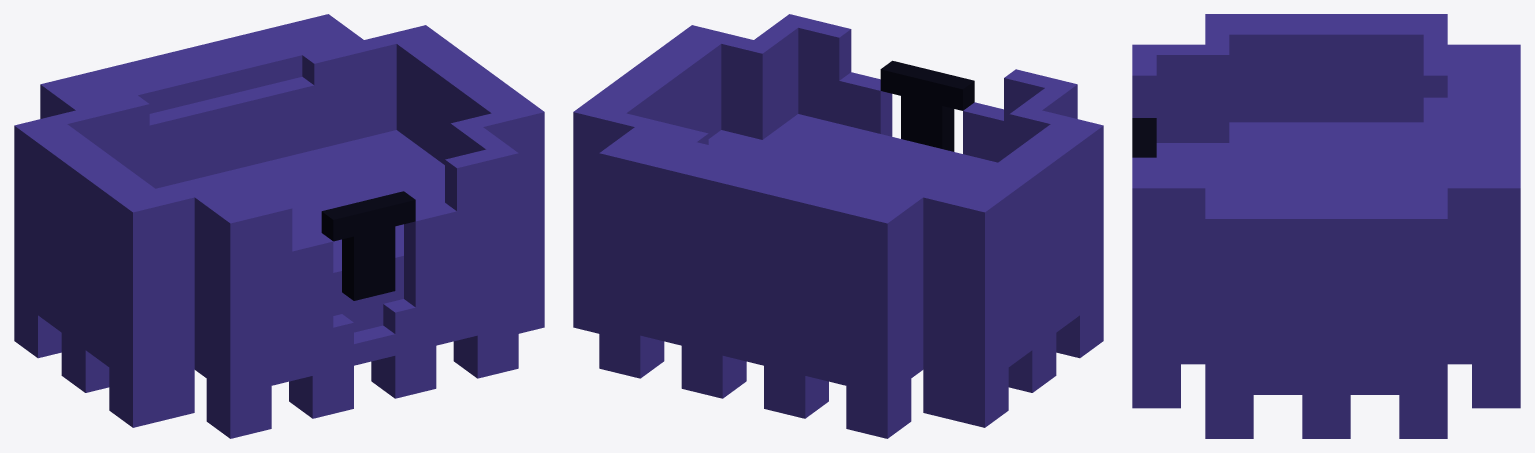
3 views of the same model, side by side, from view 1: azimuth 30°, elevation 25°; view 2: azimuth 150°, elevation 25°; view 3: azimuth 270°, elevation 25° (orthographic). The views are drawn at different scales.
Parts seen in each view (by area): view 1: 74; view 2: 74; view 3: 74.
Boxes of the visible parts, <box> form: 74: <box>14,14,544,438</box>; 74: <box>573,14,1103,438</box>; 74: <box>1132,14,1520,438</box>.
Size of the model in its own units: 200 by 100 by 160.
1 material, 1 textured.
